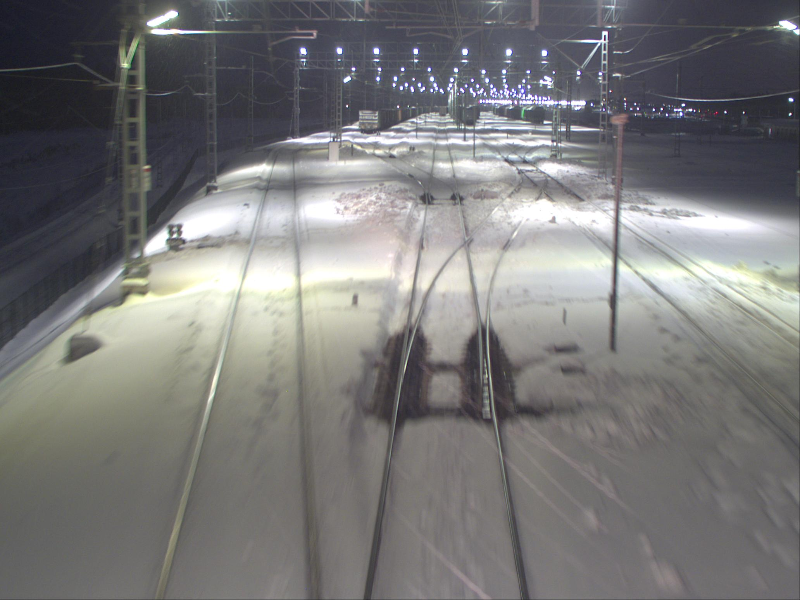left: (421, 170, 464, 205)
right: (397, 232, 499, 405)
